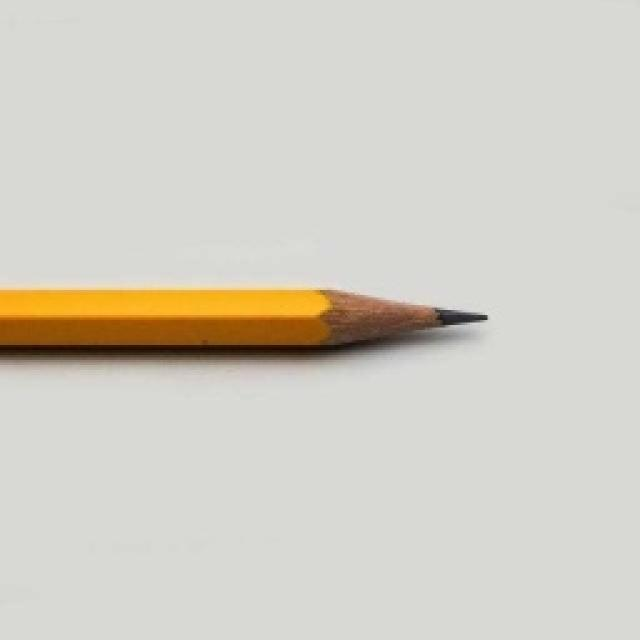pencil: (0, 283, 490, 355)
